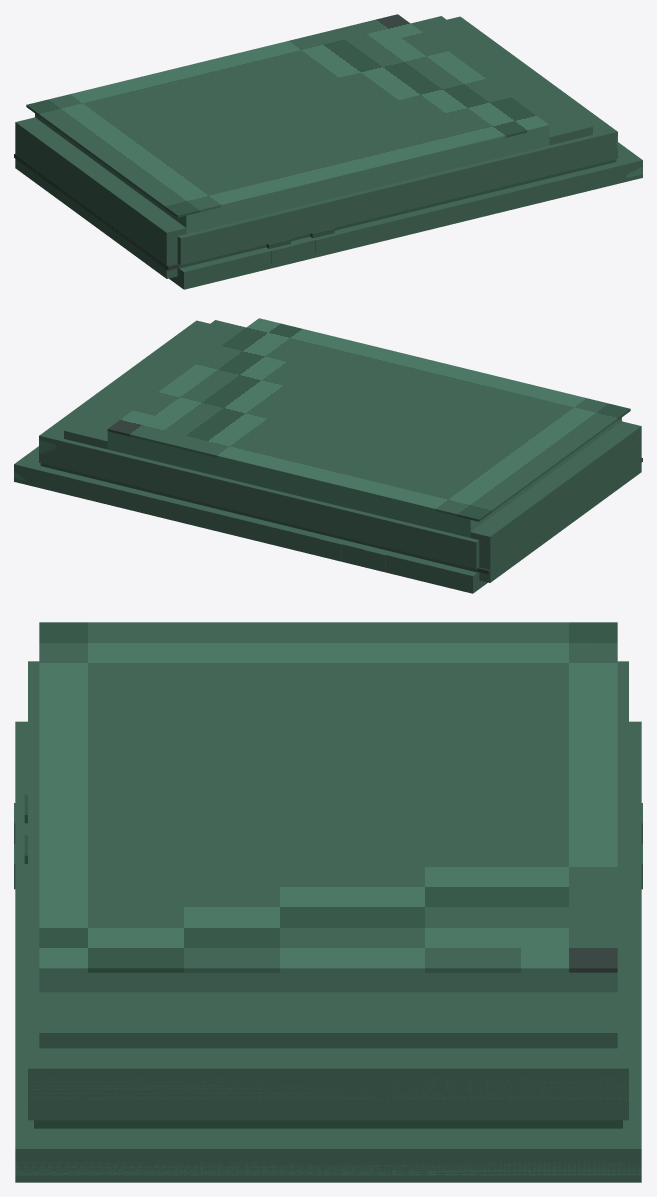
File: CMU3DBedsheetGreen.glb
3 renders of one model, top to bottom at view 1: azimuth 30°, elevation 25°; view 2: azimuth 150°, elevation 25°; view 3: azimuth 270°, elevation 25°, orthographic. The views are drawn at different scales.
Visible parts, largest first — view 1: original upper cloth weave and stripes, upper folded cloth, soft left folded edge, lower folded cloth, upper fold loft, staggered free cloth end, recessed fold seam, left lower seam; view 2: original upper cloth weave and stripes, upper folded cloth, soft left folded edge, lower folded cloth, upper fold loft, staggered free cloth end, recessed fold seam; view 3: original upper cloth weave and stripes, upper folded cloth, lower folded cloth, staggered free cloth end, upper fold loft, lower free hem, recessed fold seam, upper free hem.
Part boxes in pixels (x1=…): original upper cloth weave and stripes: x1=26, y1=14, x2=549, y2=217; upper folded cloth: x1=177, y1=16, x2=617, y2=265; soft left folded edge: x1=15, y1=117, x2=186, y2=278; lower folded cloth: x1=169, y1=142, x2=642, y2=289; upper fold loft: x1=35, y1=113, x2=549, y2=233; staggered free cloth end: x1=411, y1=16, x2=592, y2=145; recessed fold seam: x1=178, y1=159, x2=616, y2=268; left lower seam: x1=14, y1=154, x2=178, y2=270; original upper cloth weave and stripes: x1=107, y1=318, x2=630, y2=521; upper folded cloth: x1=39, y1=320, x2=479, y2=569; soft left folded edge: x1=470, y1=421, x2=641, y2=582; lower folded cloth: x1=14, y1=446, x2=487, y2=593; upper fold loft: x1=107, y1=417, x2=621, y2=537; staggered free cloth end: x1=64, y1=320, x2=245, y2=449; recessed fold seam: x1=40, y1=463, x2=478, y2=572; original upper cloth weave and stripes: x1=39, y1=622, x2=617, y2=972; upper folded cloth: x1=28, y1=661, x2=628, y2=1120; lower folded cloth: x1=15, y1=721, x2=641, y2=1182; staggered free cloth end: x1=39, y1=992, x2=617, y2=1048; upper fold loft: x1=39, y1=972, x2=617, y2=992; lower free hem: x1=15, y1=1161, x2=641, y2=1175; recessed fold seam: x1=34, y1=1120, x2=622, y2=1128; upper free hem: x1=28, y1=1077, x2=628, y2=1100.
Bounding box in the file's own units: 0.6719 × 0.095 × 0.408.
Materials: 5 (1 with a texture image).
